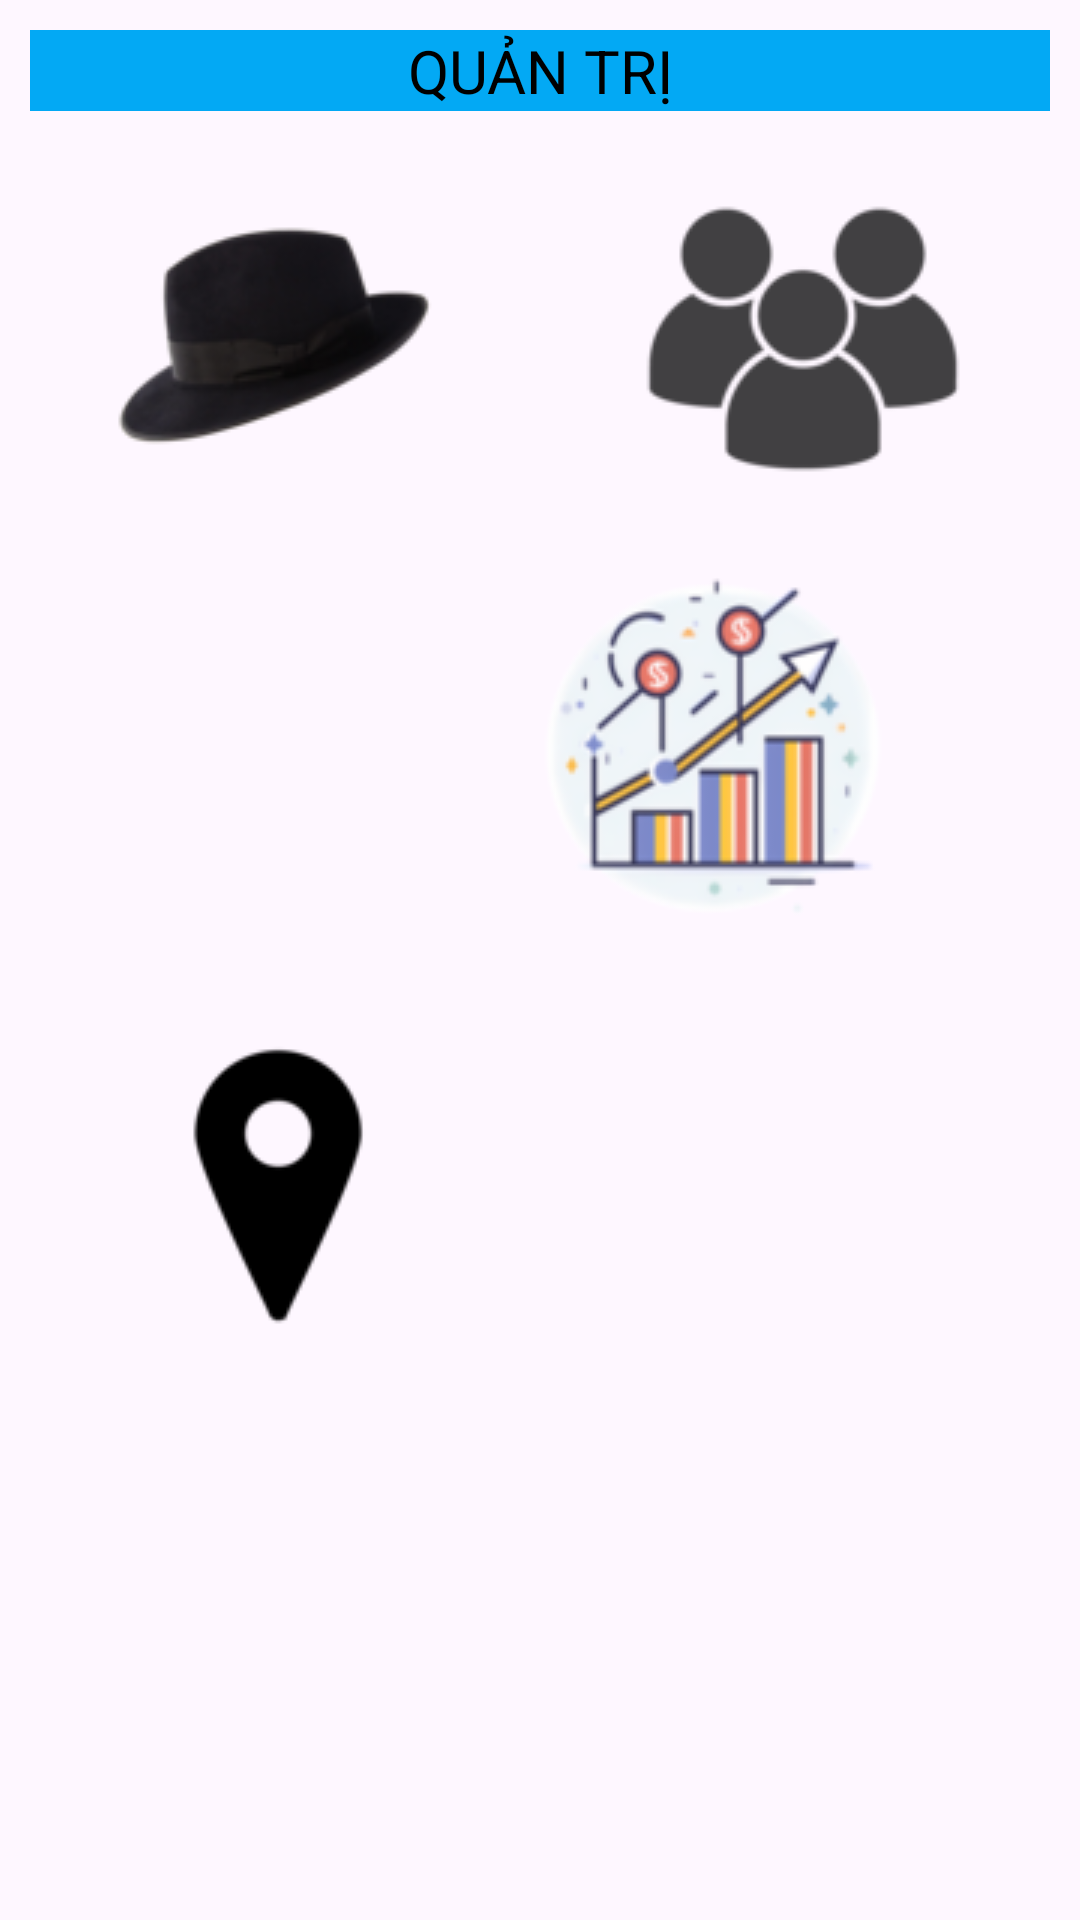

Named icons in this screenshot (1080px×1920px) and their bounding boxes, (x1, y1, x2, y2):
location: (193, 1049, 363, 1323)
product: (119, 228, 429, 443)
Quản lý khách hàng image: (647, 207, 959, 471)
Thống kê image: (556, 578, 872, 912)
